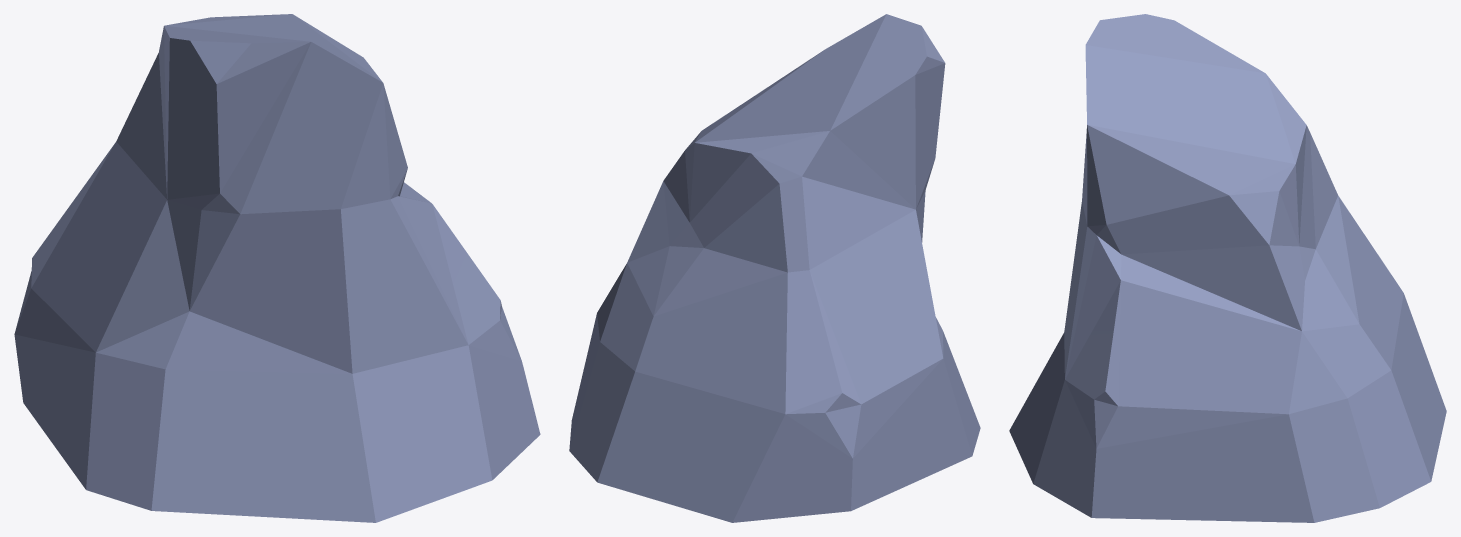
Rendered from Rock_38.fbx.
3 renders of one model, left to right at view 1: azimuth 30°, elevation 25°; view 2: azimuth 150°, elevation 25°; view 3: azimuth 270°, elevation 25°, orthographic. The views are drawn at different scales.
Visible parts, largest first — view 1: Rock_38; view 2: Rock_38; view 3: Rock_38.
Part boxes in pixels (x1,y1,x2,y2): Rock_38: (14, 14, 540, 522); Rock_38: (569, 14, 980, 522); Rock_38: (1009, 14, 1446, 522).
Bounding box in the file's own units: 2.23 × 2.37 × 2.46.
